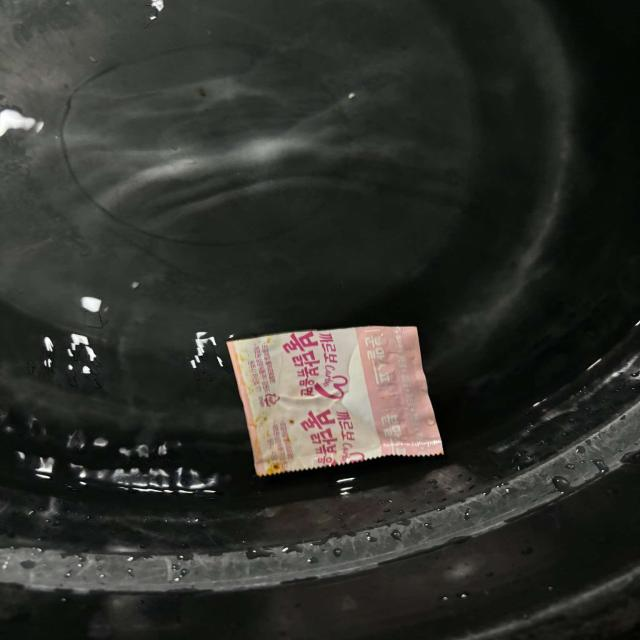Plastic Wrapper: (227, 326, 443, 476)
